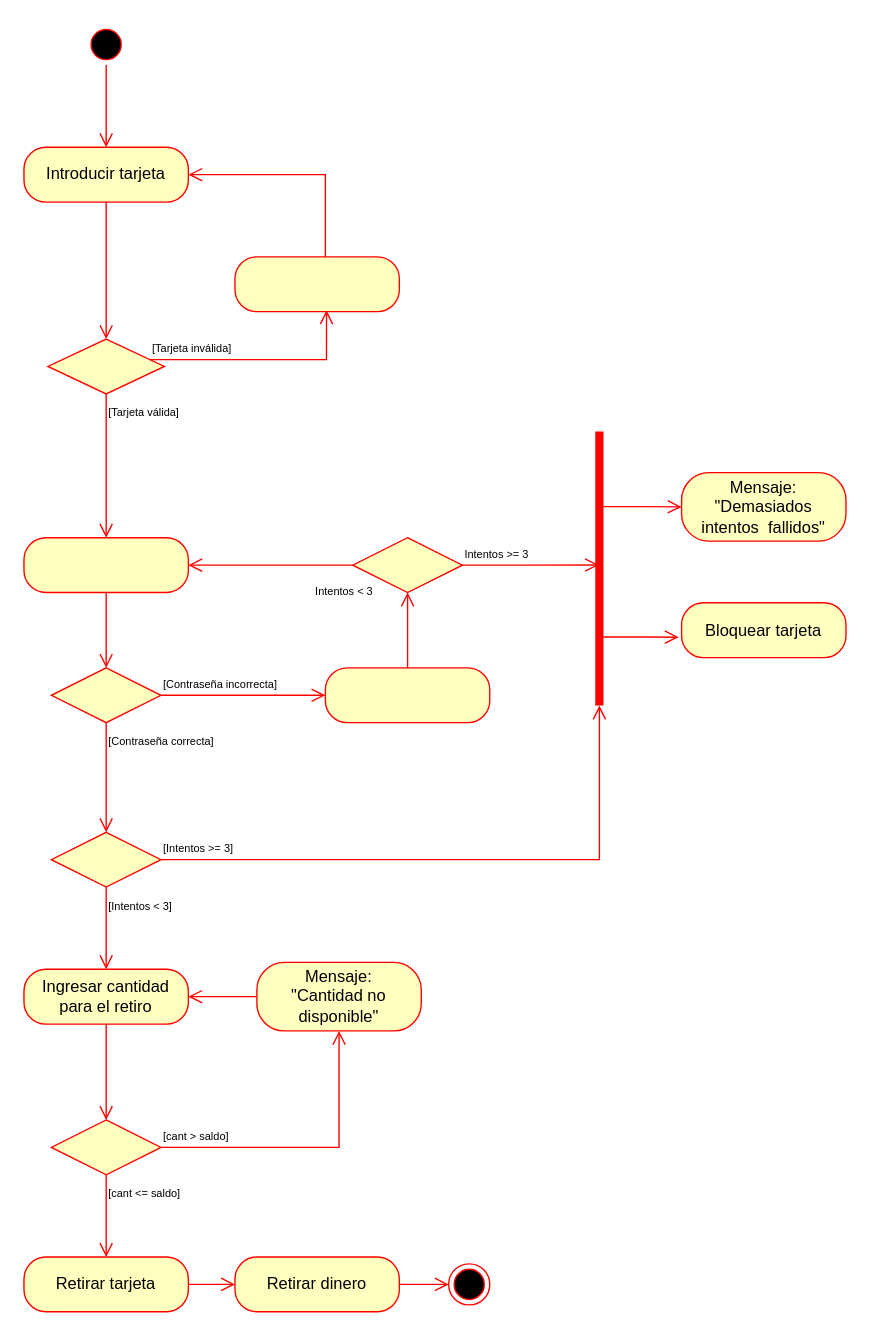
Some shapes in this 870 by 1336 pixel diagram are drawn without their labels. The centre of each missing label's shape, as x and y in pixels:
"Expulsar tarjeta" belongs at pixel 316 284.
"Introducir contraseña" belongs at pixel 105 564.
"Registrar intento +1" belongs at pixel 407 695.
